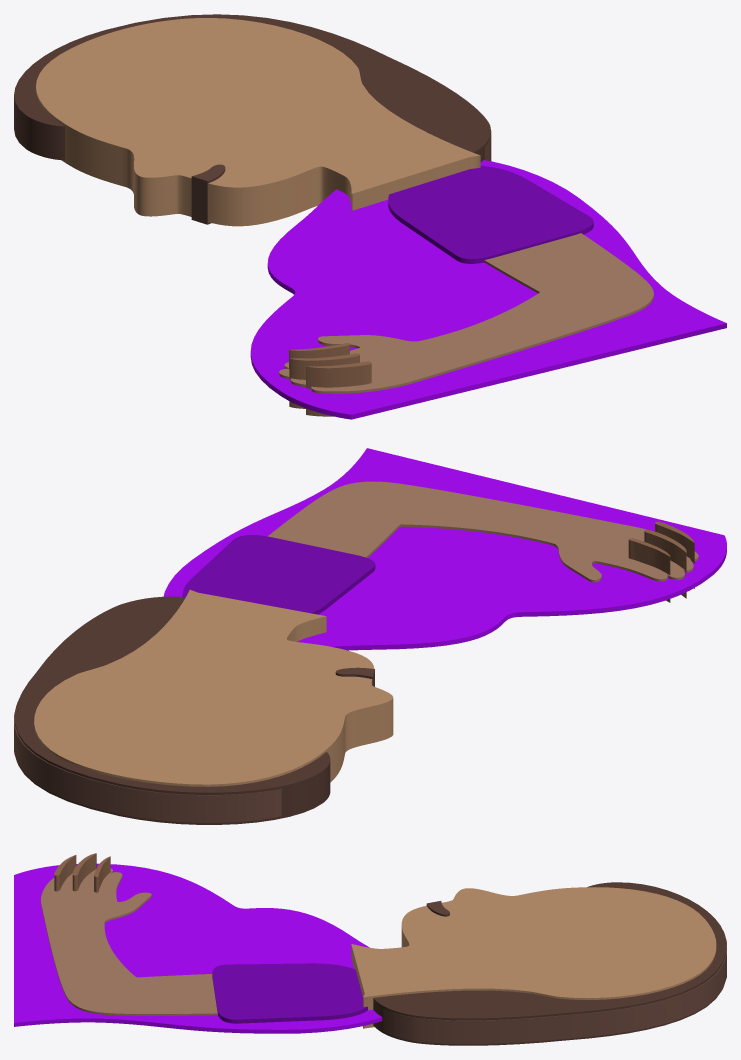
Rendered from emoji_u1f930_1f3fd.glb.
3 views of the same model, one above another, from view 1: azimuth 30°, elevation 25°; view 2: azimuth 150°, elevation 25°; view 3: azimuth 270°, elevation 25° (orthographic). The views are drawn at different scales.
Visible parts, largest first — view 1: emoji_u1f930_1f3fd; view 2: emoji_u1f930_1f3fd; view 3: emoji_u1f930_1f3fd.
Boxes of the visible parts, x1,y1,x2,y2 form: emoji_u1f930_1f3fd: (14, 14, 726, 419); emoji_u1f930_1f3fd: (14, 448, 726, 824); emoji_u1f930_1f3fd: (14, 853, 726, 1045).
Bounding box in the file's own units: 0.0183 × 0.002 × 0.0331.
